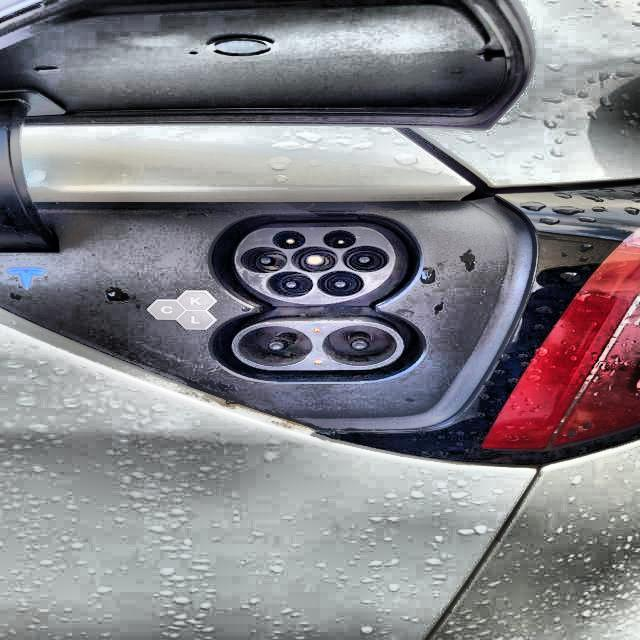inlet: (233, 227, 396, 305)
inlet-above-left: (273, 230, 306, 250)
inlet-above-right: (323, 230, 356, 249)
inlet-below-left: (267, 271, 313, 298)
inlet-below-right: (317, 271, 365, 297)
inlet-center: (291, 246, 338, 273)
inlet-center-left: (241, 246, 288, 274)
inlet-center-right: (342, 245, 389, 273)
